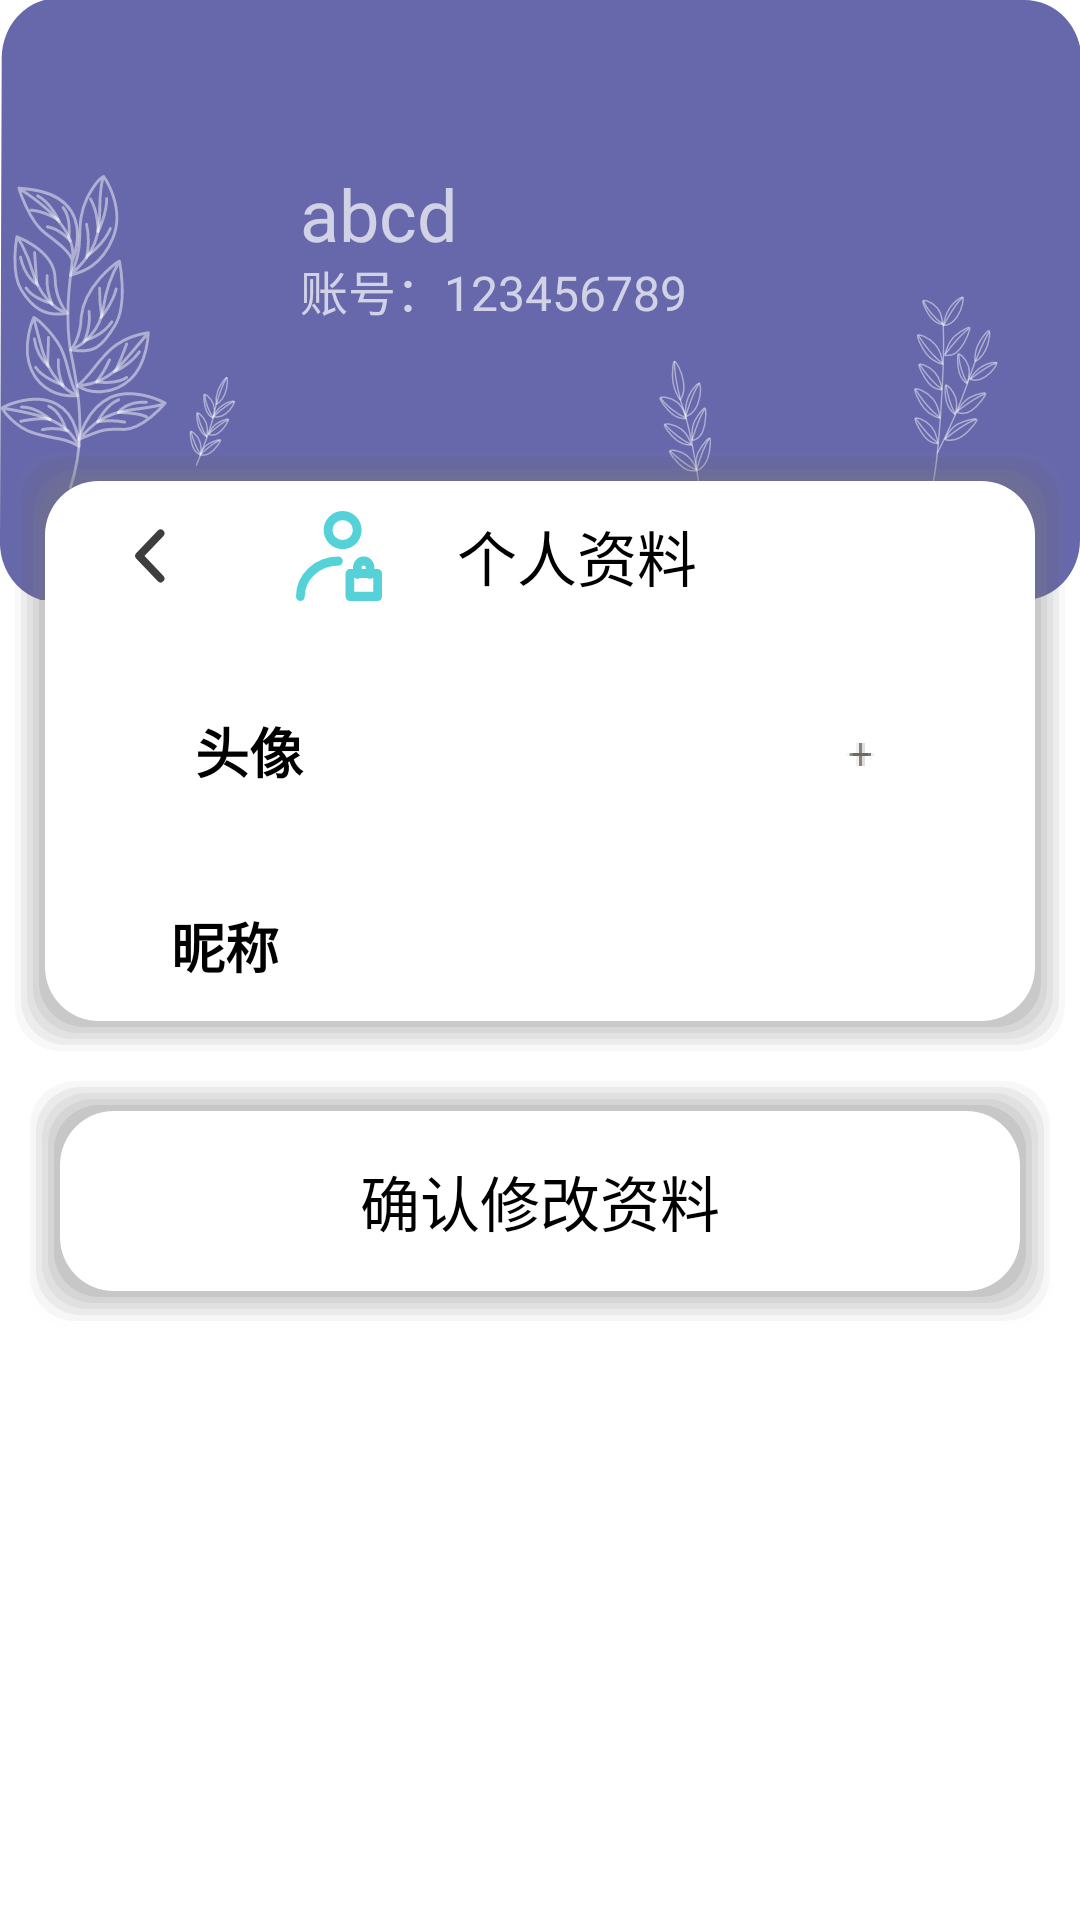

Named icons in this screenshot (1080x1920) and their bounding boxes, (x1, y1, x2, y2):
arrow back: (135, 529, 165, 583)
setting privacy: (296, 511, 382, 601)
